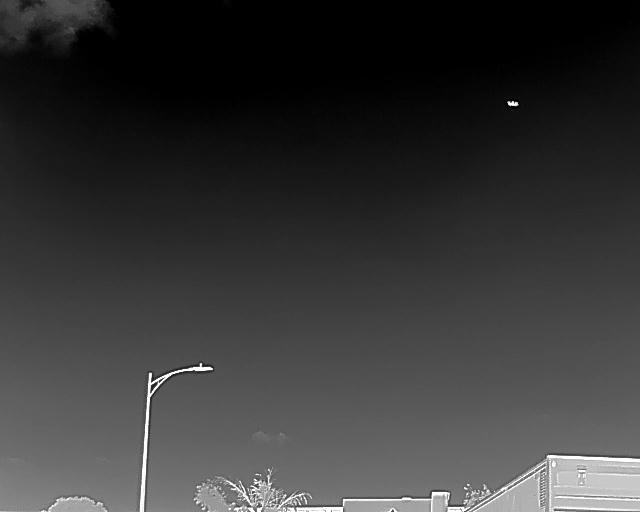fpv-drone: (506, 100, 518, 108)
